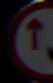Two way: (9, 7, 52, 58)
